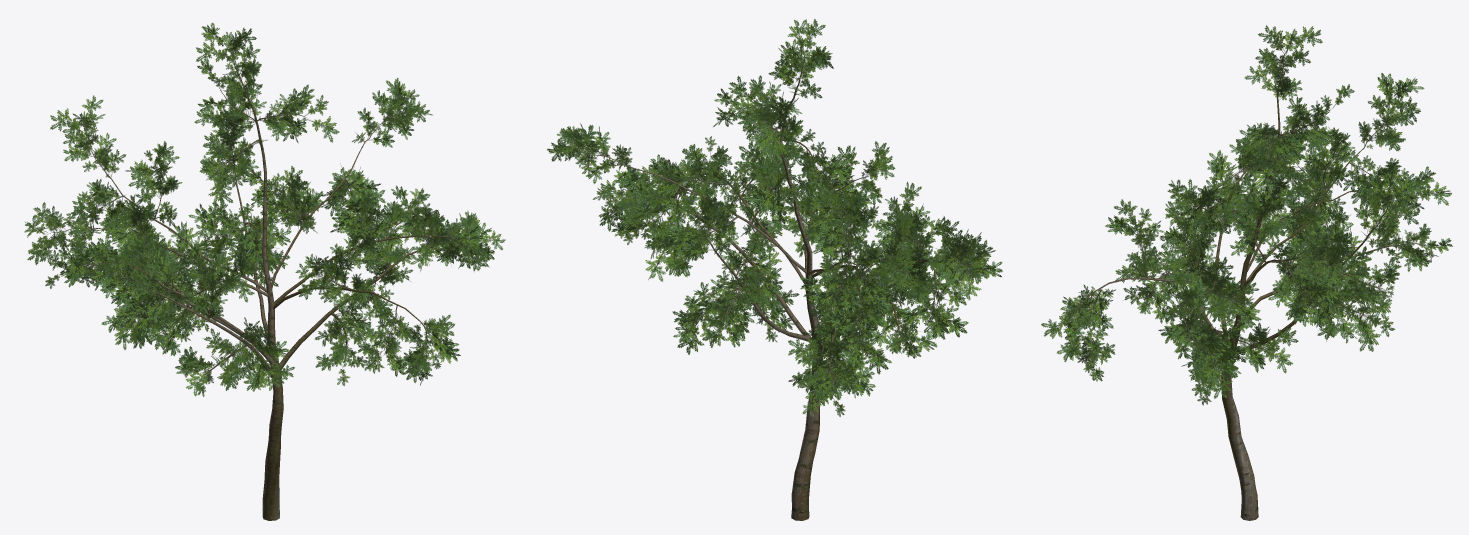
Rendered from tree6.glb.
3 renders of one model, left to right at view 1: azimuth 30°, elevation 25°; view 2: azimuth 150°, elevation 25°; view 3: azimuth 270°, elevation 25°, orthographic. The views are drawn at different scales.
Visible parts, largest first — view 1: Tree EZTree1.Medium002; view 2: Tree EZTree1.Medium002; view 3: Tree EZTree1.Medium002.
Part boxes in pixels (box(x1,y1,x2,y2)): Tree EZTree1.Medium002: box(24, 22, 505, 520); Tree EZTree1.Medium002: box(547, 19, 1002, 520); Tree EZTree1.Medium002: box(1041, 25, 1452, 520).
Bounding box in the file's own units: 43.64 × 48.88 × 37.99.
2 materials, 2 textured.
